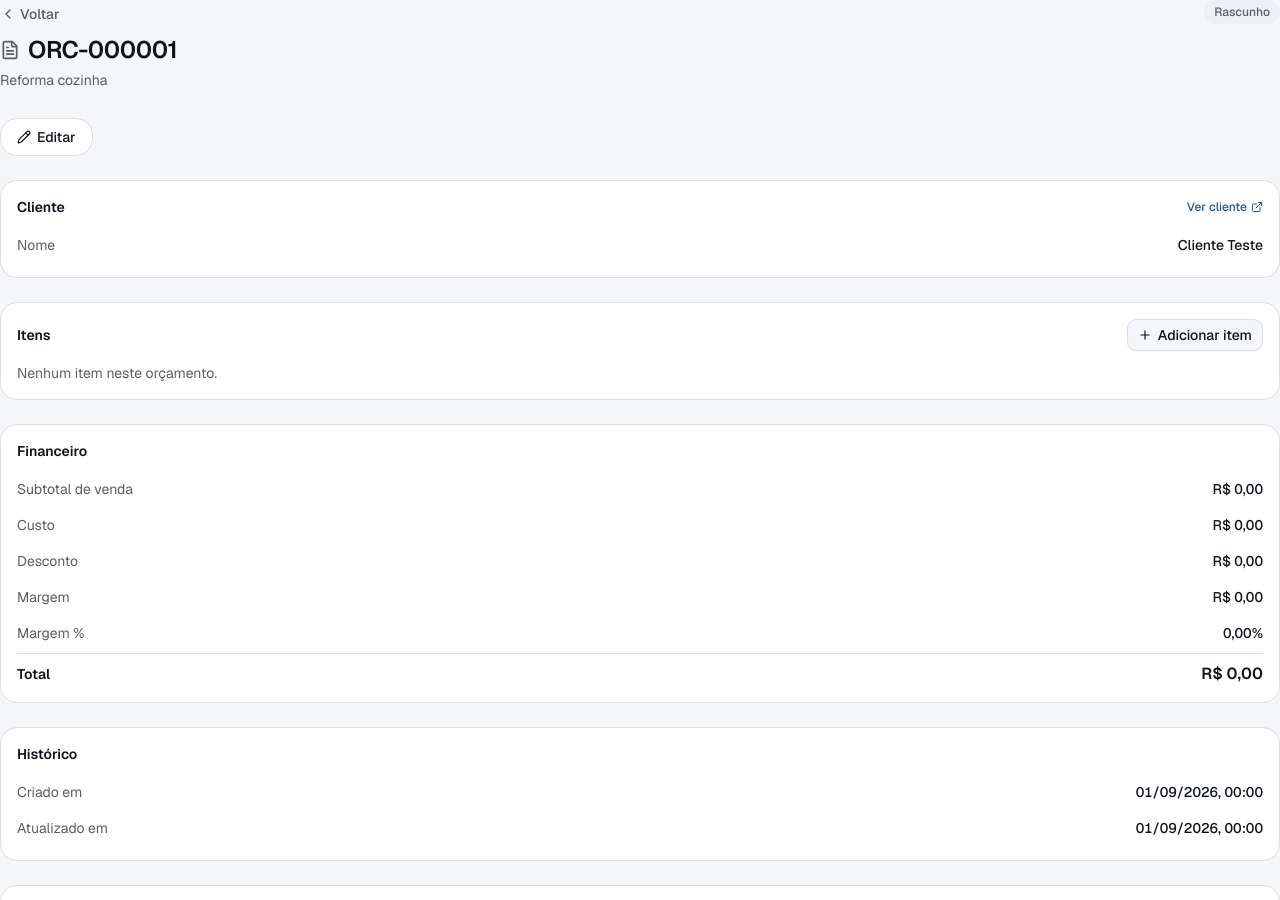
Test case: Budget item management › shows the helper text about margin unavailability near the cost field
Click the button "Adicionar item" at (1195, 335), box [1127,319,1263,351]
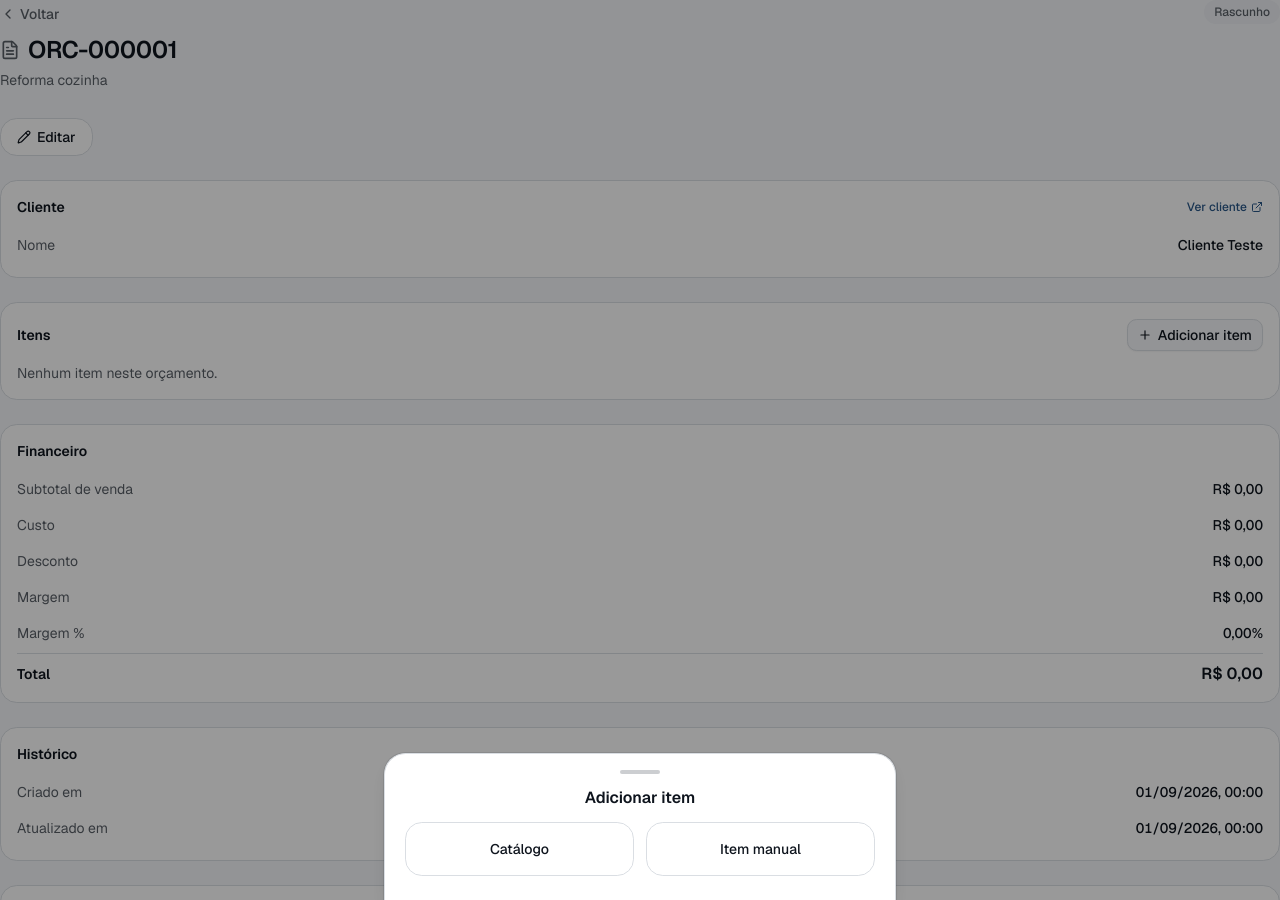
Click the button "Item manual" at (760, 849), box [646,822,875,876]
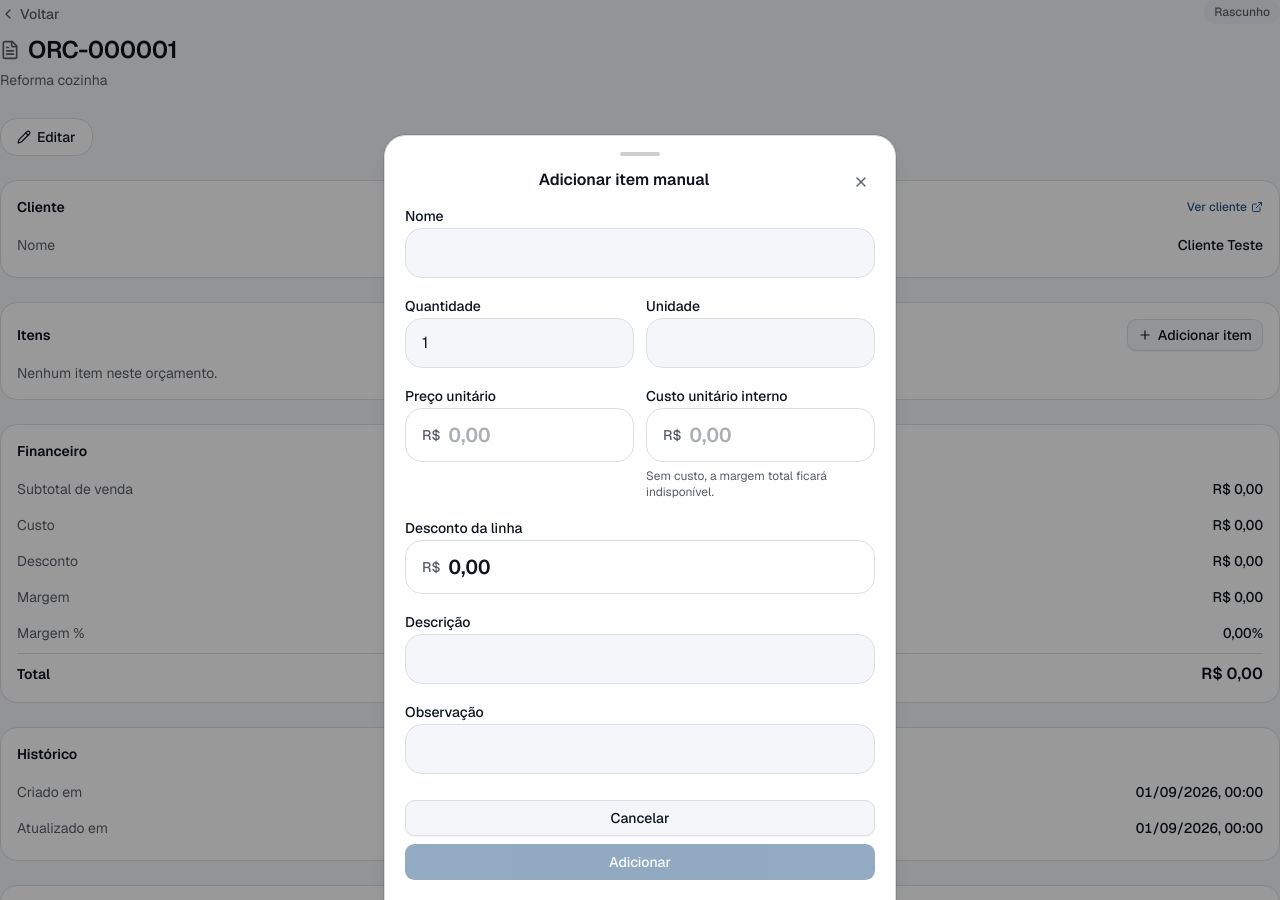
Check: the text "Sem custo, a margem total ficará indisponível." is shown, box [646,468,827,500]
